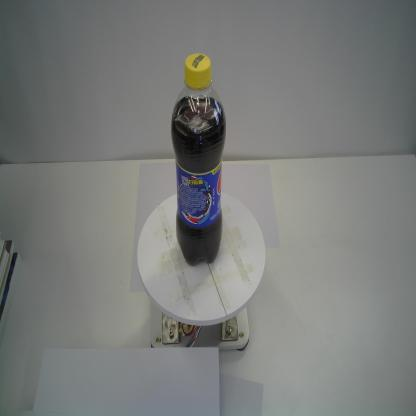Drink: (169, 50, 229, 268)
